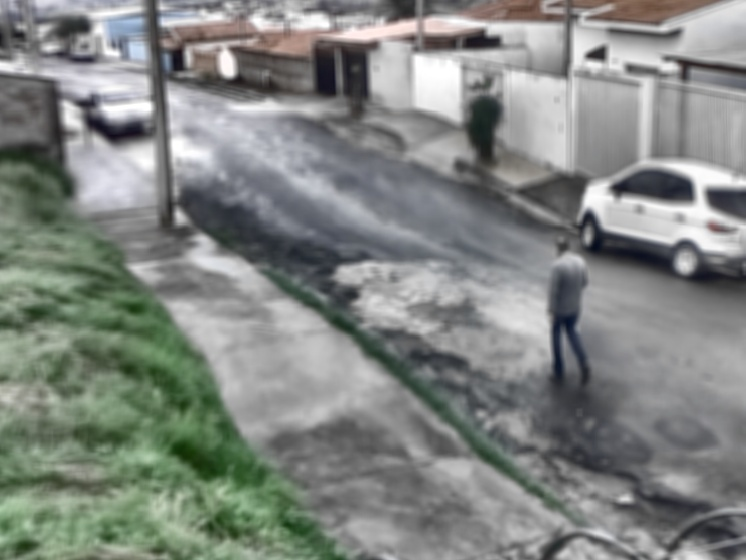person: (543, 235, 594, 392)
